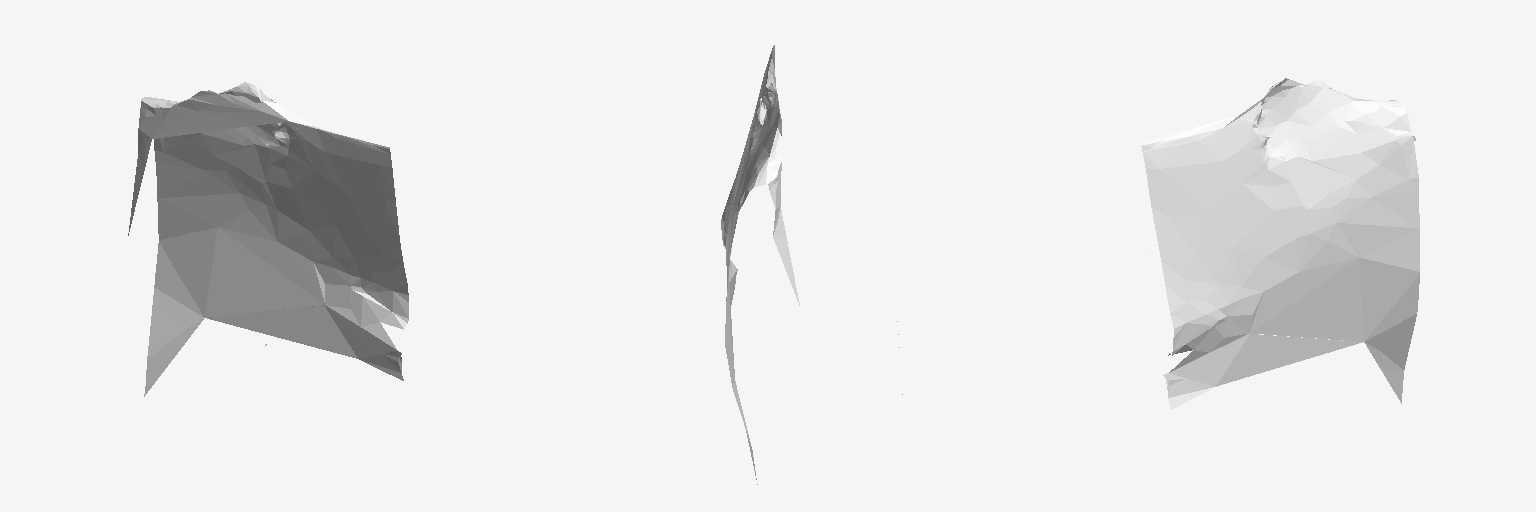
Rendered from tile_6_7.obj.
3 views of the same model, side by side, from view 1: azimuth 30°, elevation 25°; view 2: azimuth 150°, elevation 25°; view 3: azimuth 270°, elevation 25° (orthographic).
Parts seen in each view (by area): view 1: texture_0; view 2: texture_0; view 3: texture_0.
Boxes of the visible parts, box(x1,y1,x2,y2) form: texture_0: box(128, 82, 408, 396); texture_0: box(721, 45, 902, 484); texture_0: box(1140, 78, 1419, 409).
Bounding box in the file's own units: 0.2872 × 0.477 × 0.3486.